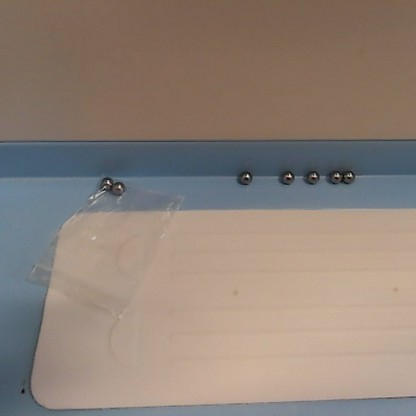ironball: (275, 167, 296, 186), (338, 165, 357, 186), (325, 166, 345, 185), (304, 167, 322, 187), (237, 169, 256, 186), (109, 180, 128, 196), (98, 173, 114, 190)
